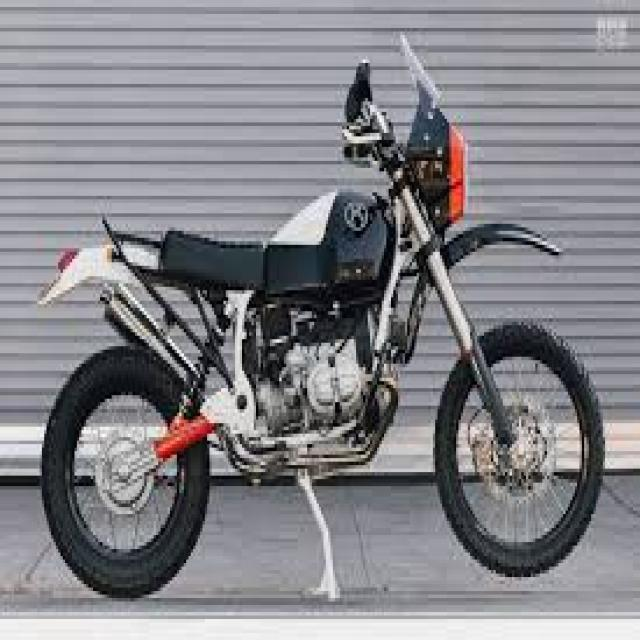Bike: (41, 31, 606, 599)
